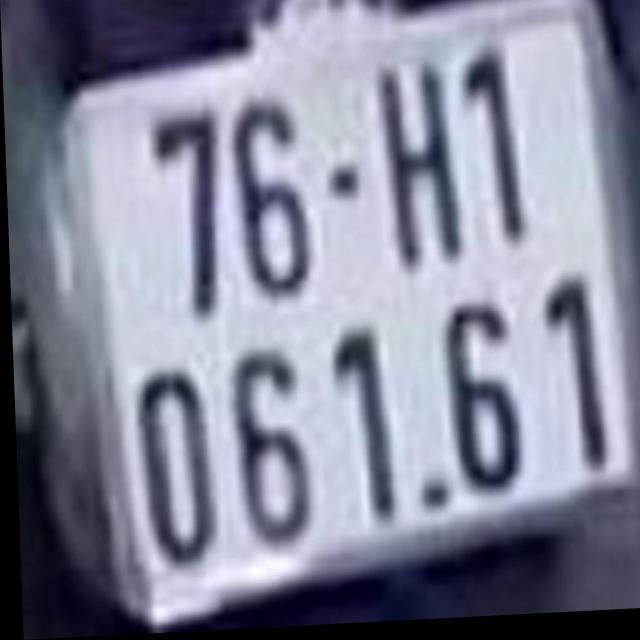0: (131, 366, 213, 566)
1: (326, 331, 396, 531), (459, 45, 523, 253), (544, 276, 603, 479)
6: (230, 98, 312, 297), (225, 349, 307, 544), (445, 302, 518, 491)
7: (153, 108, 222, 311)
H: (377, 61, 462, 279)
